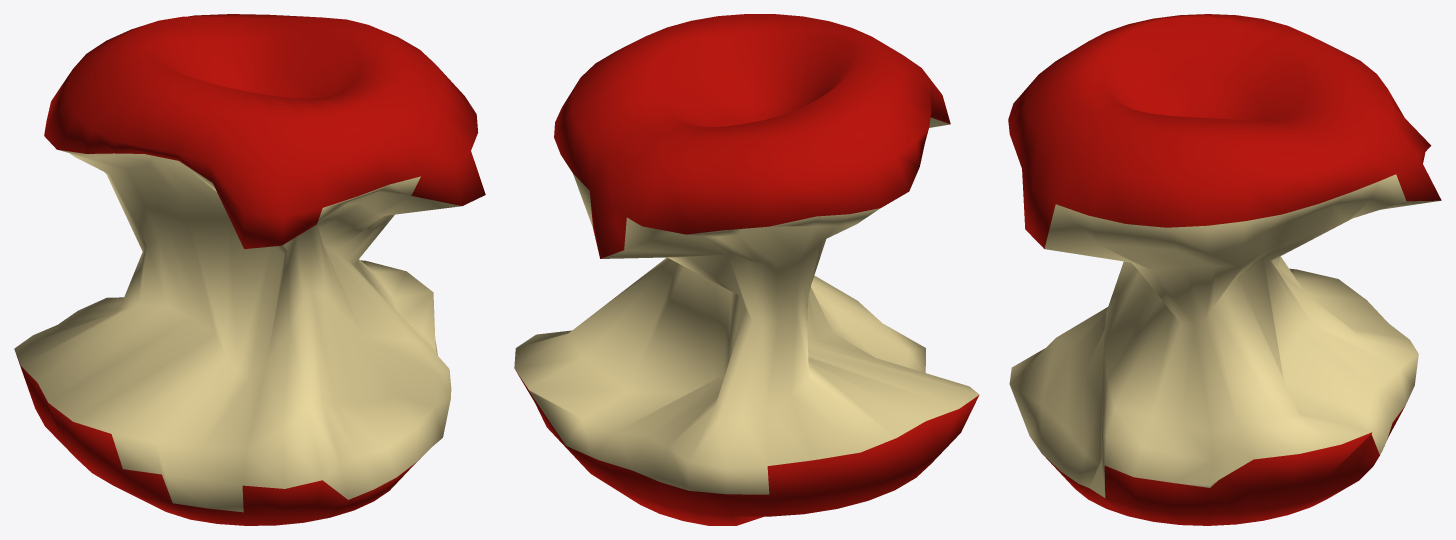
Rendered from applecore.fbx.
3 renders of one model, left to right at view 1: azimuth 30°, elevation 25°; view 2: azimuth 150°, elevation 25°; view 3: azimuth 270°, elevation 25°, orthographic. The views are drawn at different scales.
Parts seen in each view (by area): view 1: Sphere; view 2: Sphere; view 3: Sphere.
Part boxes in pixels (left/top/right/bottom): Sphere: left=14, top=14, right=485, bottom=525; Sphere: left=514, top=14, right=979, bottom=525; Sphere: left=1008, top=14, right=1441, bottom=525.
Size of the model in its own units: 176 by 180 by 167.
